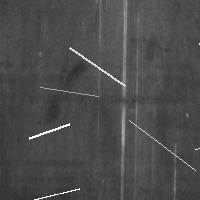scratches: (124, 115, 200, 175), (115, 1, 131, 196), (65, 43, 130, 91), (0, 184, 84, 200), (35, 82, 103, 101), (24, 119, 74, 143), (194, 38, 200, 104), (190, 132, 200, 154)
